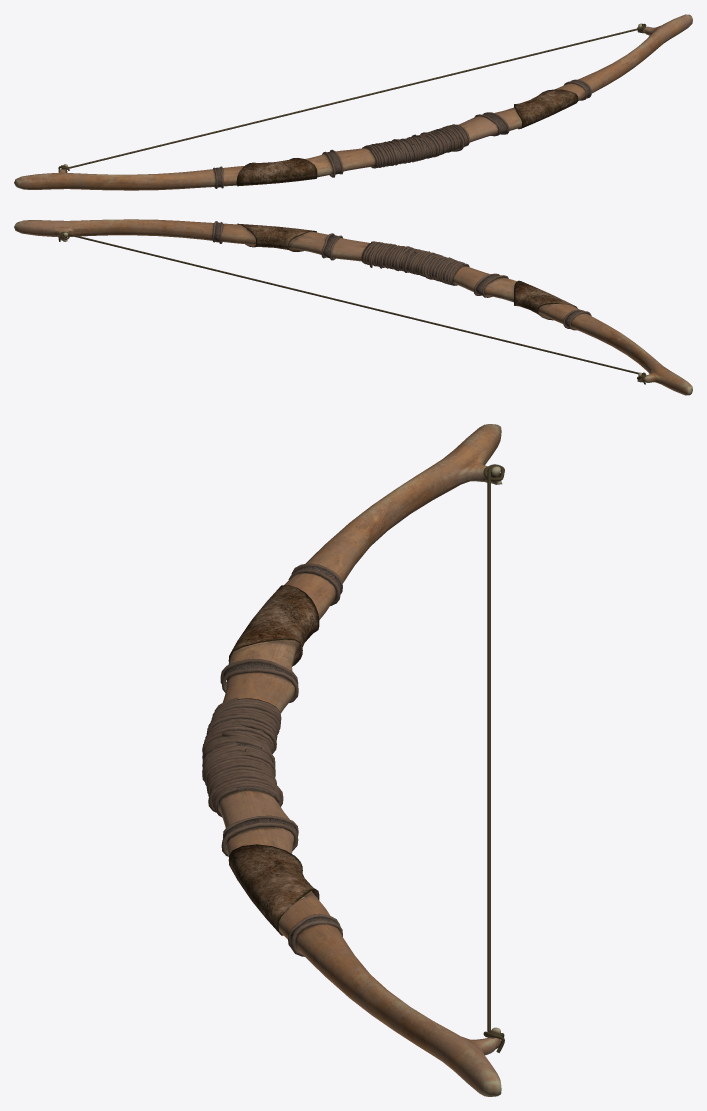
Rendered from cool_bow.glb.
3 renders of one model, top to bottom at view 1: azimuth 30°, elevation 25°; view 2: azimuth 150°, elevation 25°; view 3: azimuth 270°, elevation 25°, orthographic. The views are drawn at different scales.
Visible parts, largest first — view 1: plank_0, rope_2, stripe_1; view 2: plank_0, rope_2, stripe_1; view 3: plank_0, rope_2, stripe_1.
Part boxes in pixels (box(x1,y1,x2,y2)): plank_0: box(14, 14, 692, 190); rope_2: box(213, 79, 591, 188); stripe_1: box(58, 23, 646, 172); plank_0: box(14, 219, 692, 395); rope_2: box(212, 221, 591, 330); stripe_1: box(58, 231, 646, 384); plank_0: box(203, 424, 502, 1096); rope_2: box(202, 563, 342, 956); stripe_1: box(483, 464, 504, 1052).
Size of the model in its own units: 4.28 by 0.134 by 0.83.
1 material, 1 textured.
